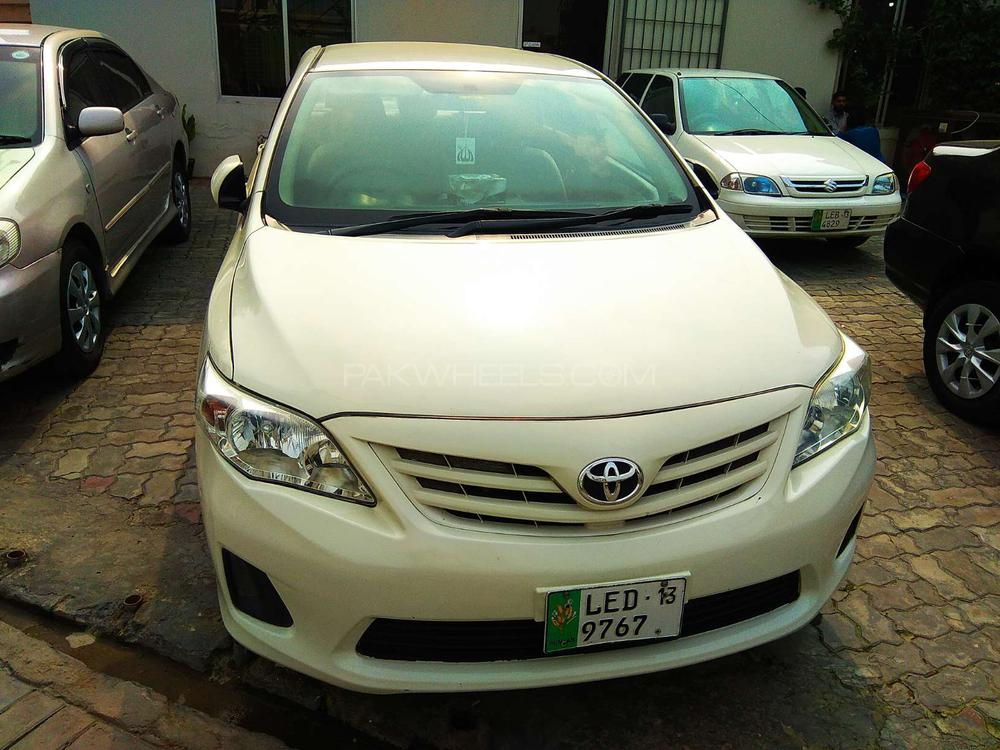license plate: (543, 589, 688, 648)
